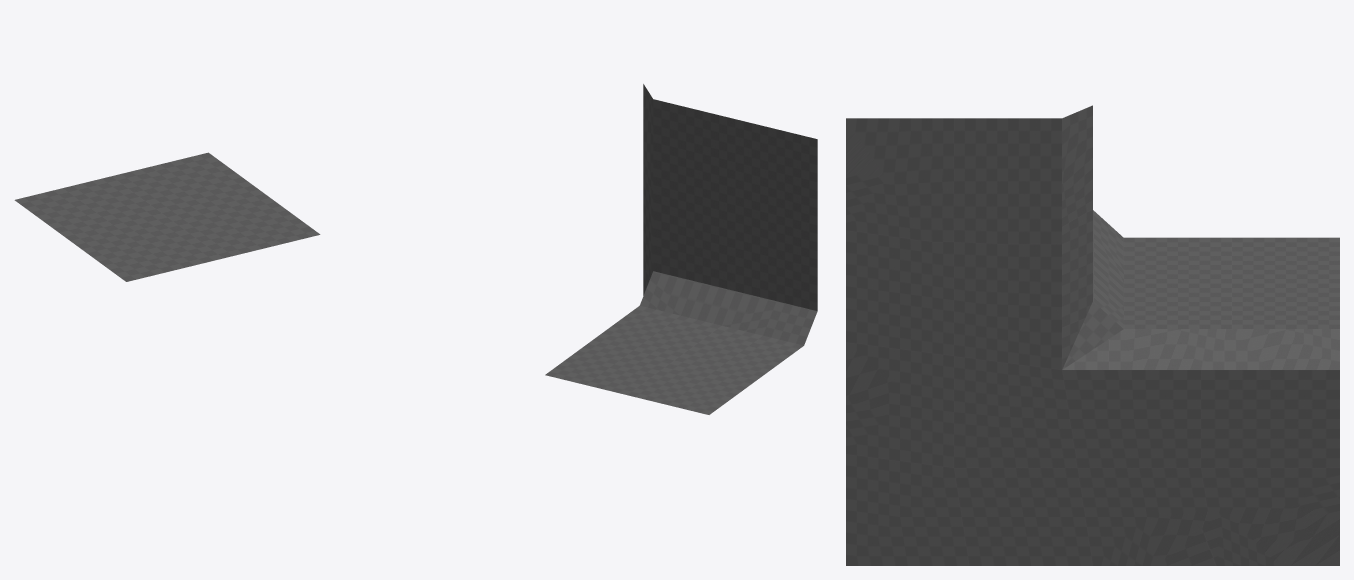
3 renders of one model, left to right at view 1: azimuth 30°, elevation 25°; view 2: azimuth 150°, elevation 25°; view 3: azimuth 270°, elevation 25°, orthographic. The views are drawn at different scales.
Visible parts, largest first — view 1: 0; view 2: 0; view 3: 0.
Boxes of the visible parts, x1,y1,x2,y2 form: 0: (14,152,320,281); 0: (545,84,817,414); 0: (846,105,1339,565).
Size of the model in its own units: 2 by 4 by 4.
Materials: 1 (1 with a texture image).
